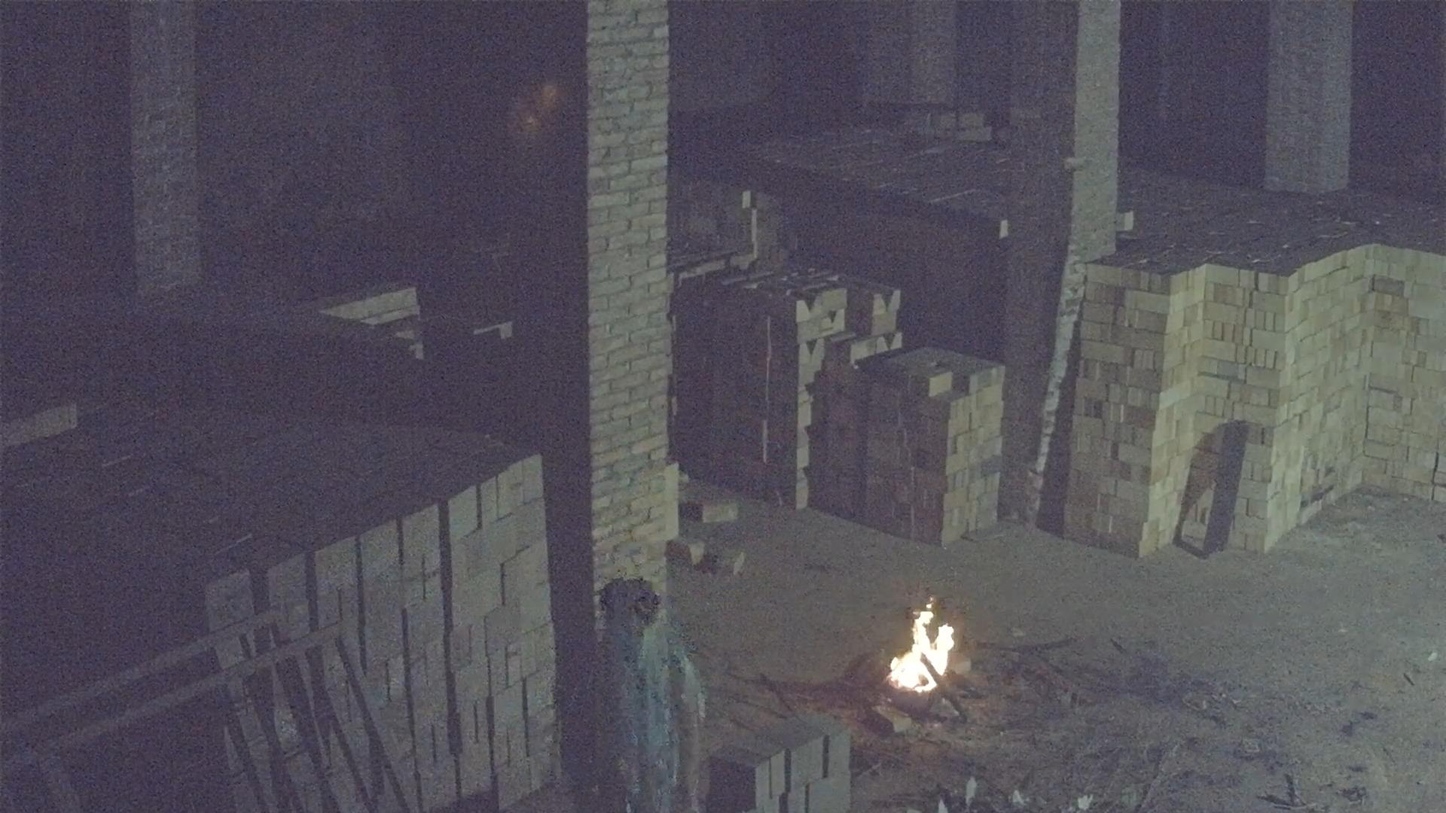fire: (887, 609, 955, 693)
